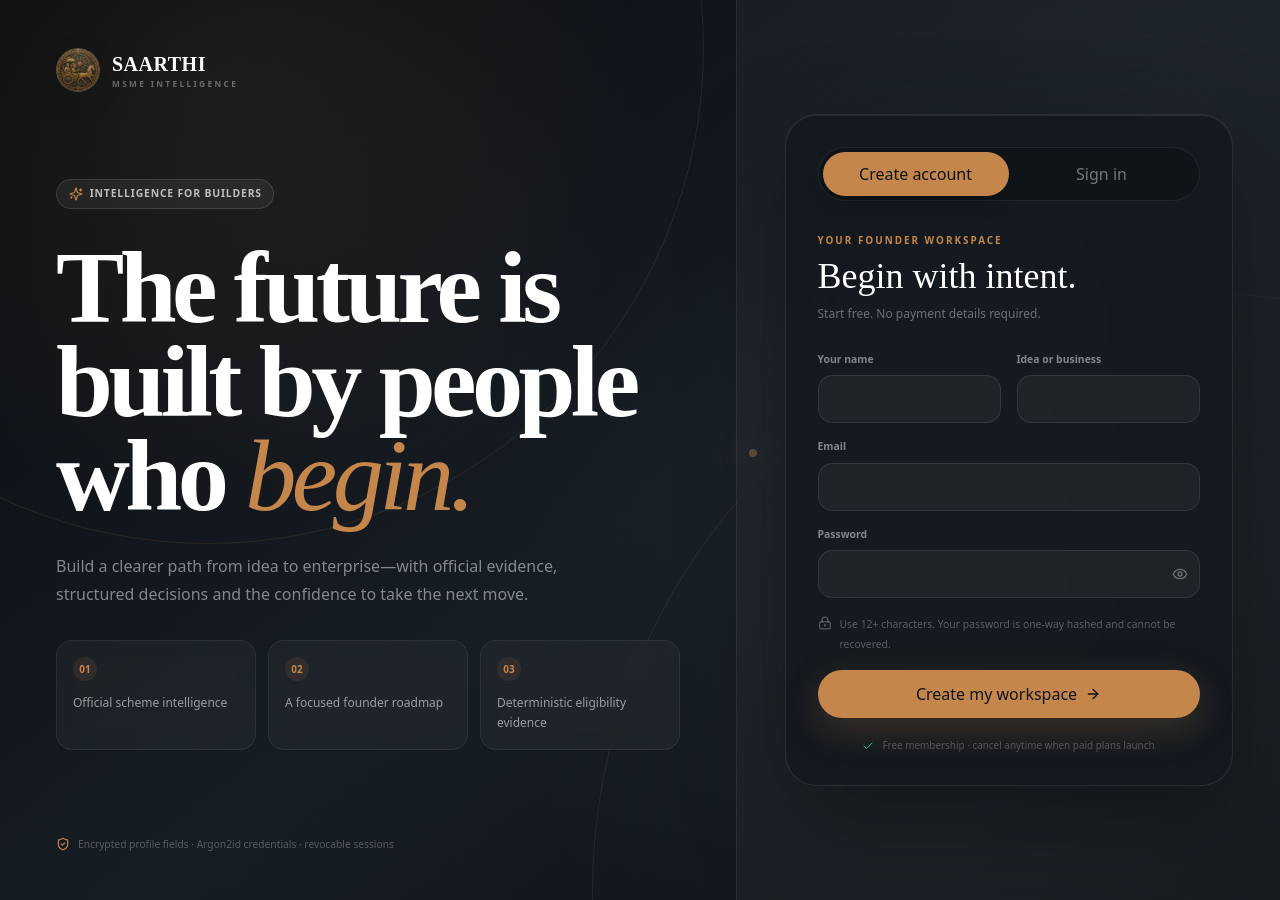
Scenario: account onboarding › switches to sign in without showing registration fields
What coordinates should you click on to do the following:
click the button "Sign in"
I would click on:
 (1102, 174)
Its box is [1008,152,1194,196].
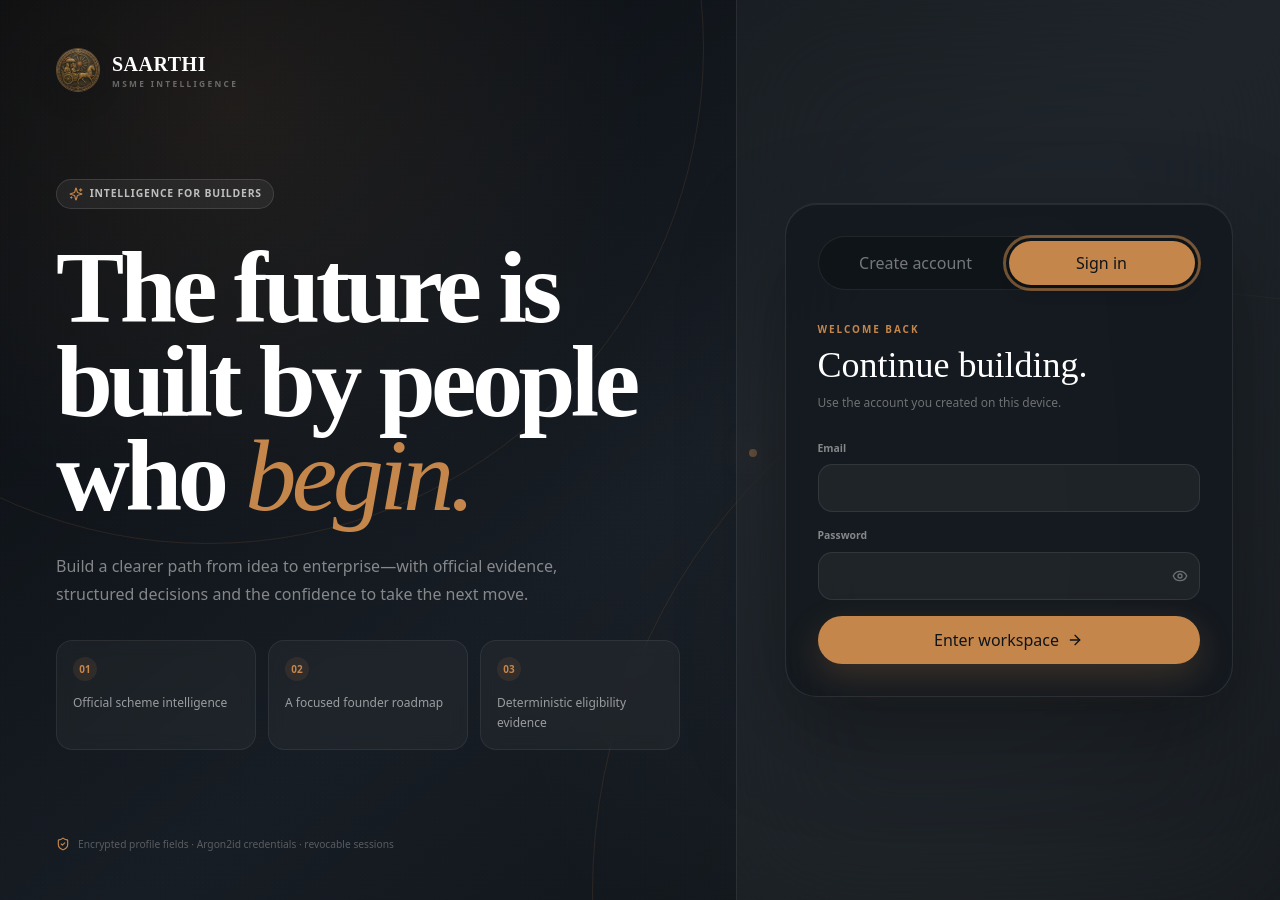
Check: the text "Your name" is gone
Check: the heading "Continue building." is shown, box [818,345,1088,385]
